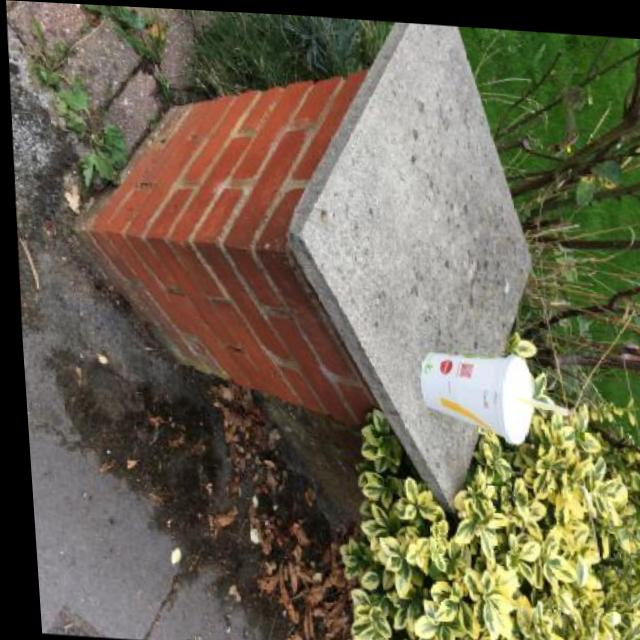cardboard: (415, 347, 538, 447)
plastic: (513, 394, 570, 419)
